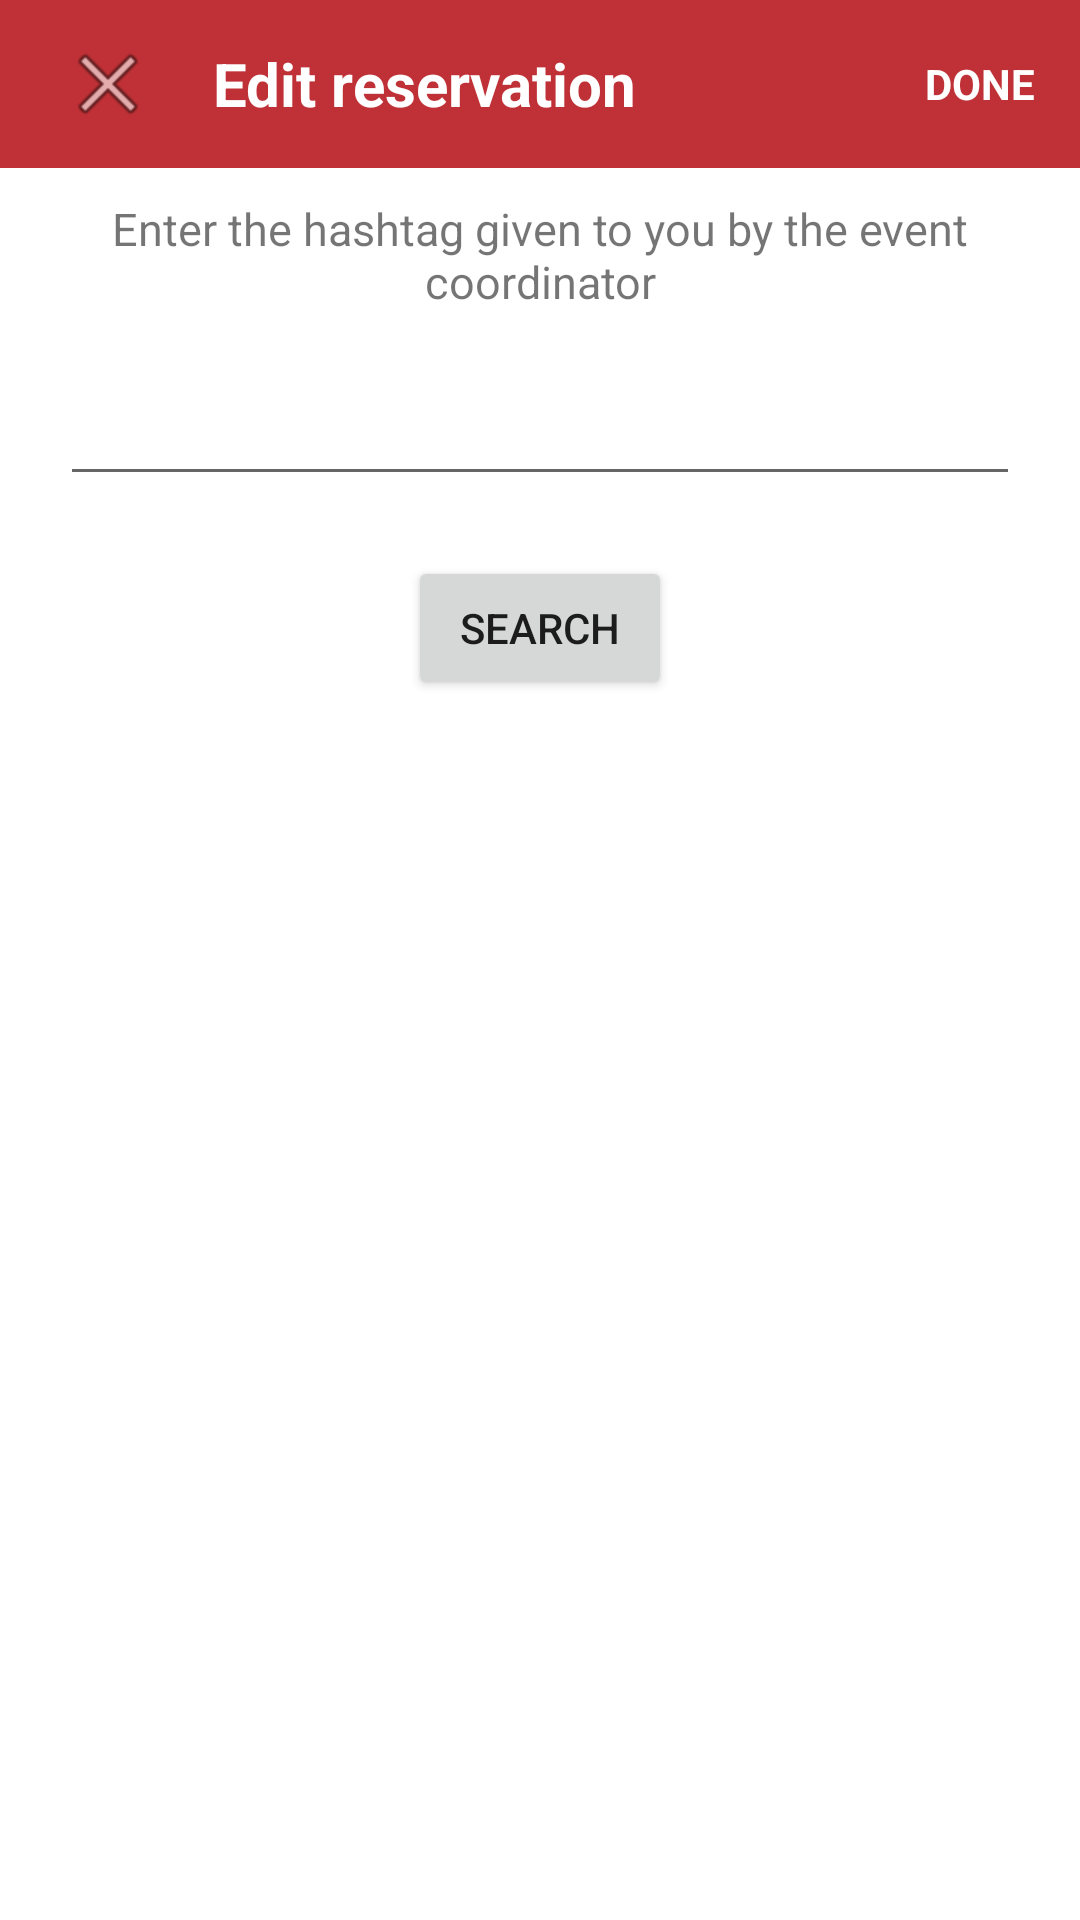

Screen size 1080w x 1920h. Icon name, then its center in pixels as (x,y):
close clear cancel: (108,84)
